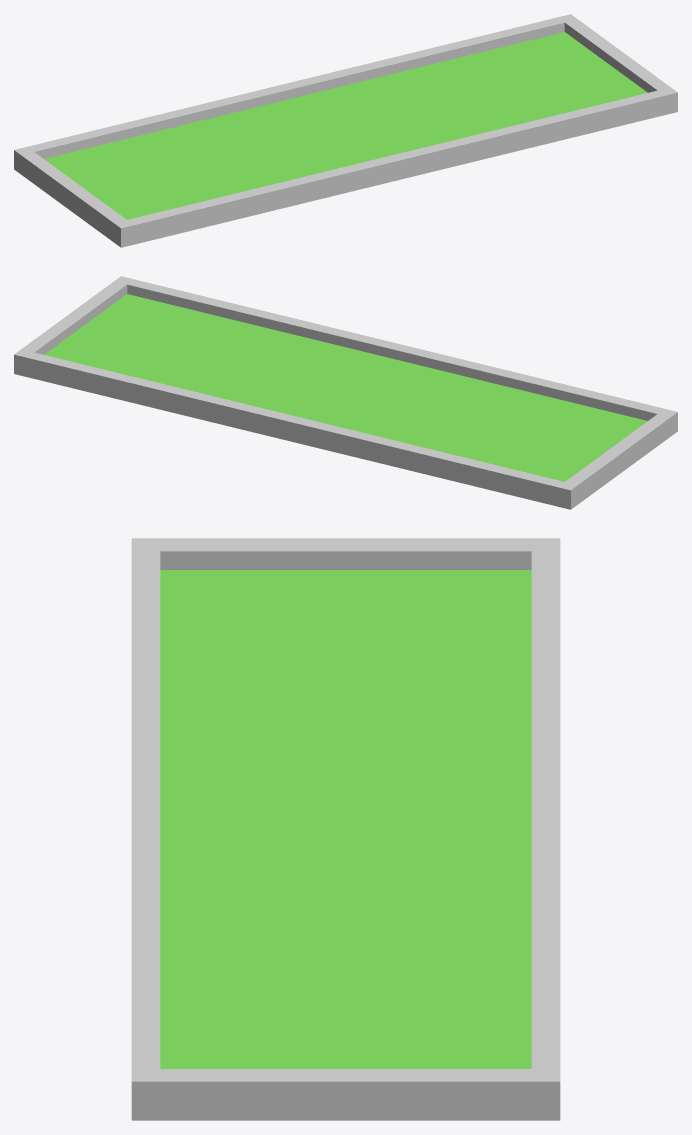
File: flowerbed.fbx
The picture shows the model from 3 angles, top to bottom: view 1: azimuth 30°, elevation 25°; view 2: azimuth 150°, elevation 25°; view 3: azimuth 270°, elevation 25°; orthographic projection. The views are drawn at different scales.
Visible parts, largest first — view 1: flowerbed2; view 2: flowerbed2; view 3: flowerbed2.
Boxes of the visible parts, <box> form: flowerbed2: <box>14,14,677,247</box>; flowerbed2: <box>14,276,677,509</box>; flowerbed2: <box>131,538,560,1120</box>.
Size of the model in its own units: 600 by 20 by 200.
